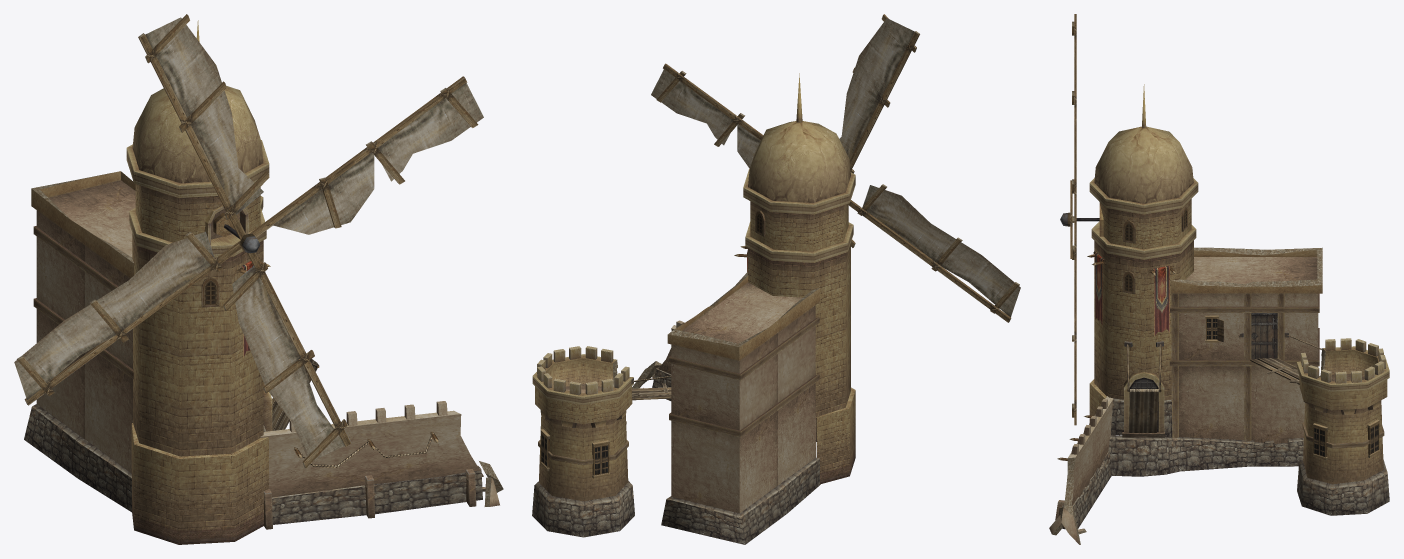
The model's file is SC_tamalagebi_08.FBX.
3 renders of one model, left to right at view 1: azimuth 30°, elevation 25°; view 2: azimuth 150°, elevation 25°; view 3: azimuth 270°, elevation 25°, orthographic. The views are drawn at different scales.
Parts seen in each view (by area): view 1: SC_tamalagebi_08; view 2: SC_tamalagebi_08; view 3: SC_tamalagebi_08.
Boxes of the visible parts, bbox=[...] form: SC_tamalagebi_08: bbox=[14, 14, 503, 544]; SC_tamalagebi_08: bbox=[532, 14, 1020, 544]; SC_tamalagebi_08: bbox=[1049, 14, 1389, 544].
Size of the model in its own units: 1758 by 1902 by 1429.
